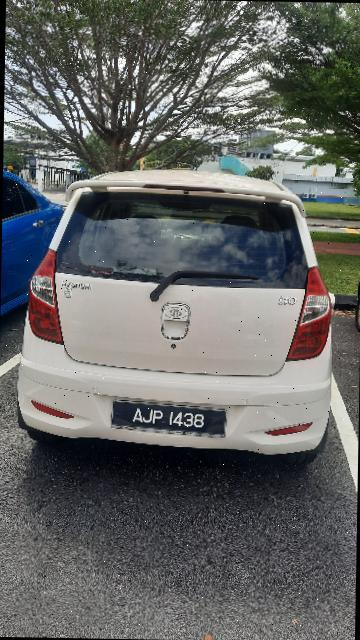License_Plate: (118, 392, 235, 456)
car: (10, 157, 344, 481)
